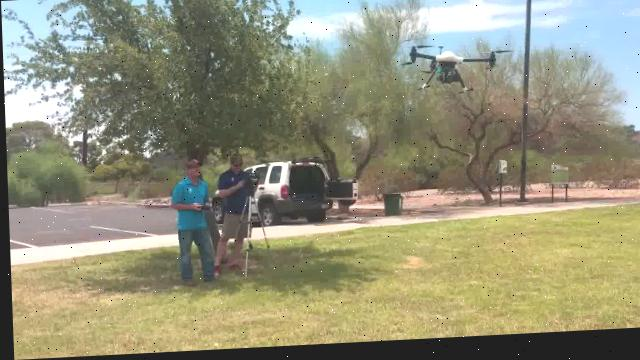drone: (398, 43, 509, 100)
